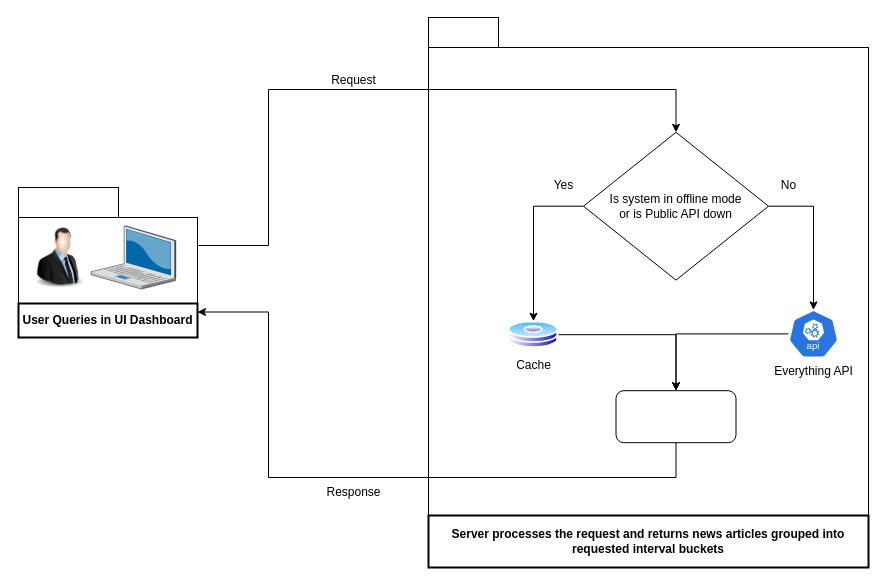
Some shapes in this 886 by 586 pixel diagram are drawn without their labels. Each missing label, with the centre of its shape:
"Response massaging based on interval" goes at pixel 675 416.
"SERVER" goes at pixel 463 32.
"UI/ POSTMAN" goes at pixel 68 202.
